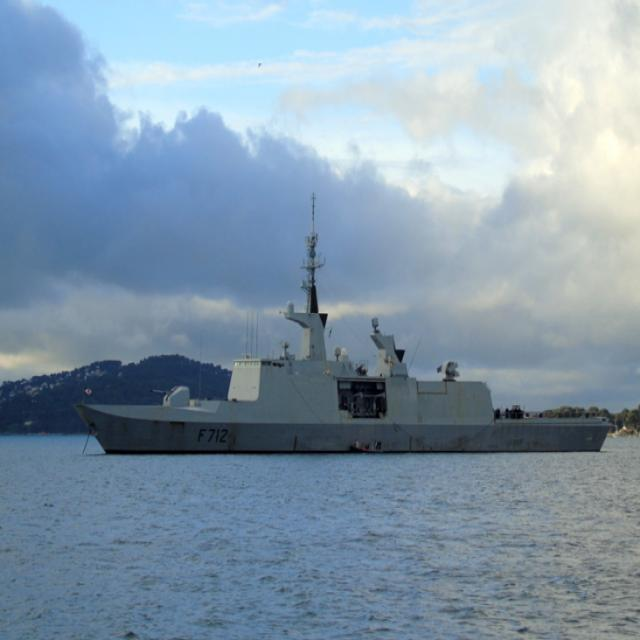Fragata: (75, 194, 625, 459)
